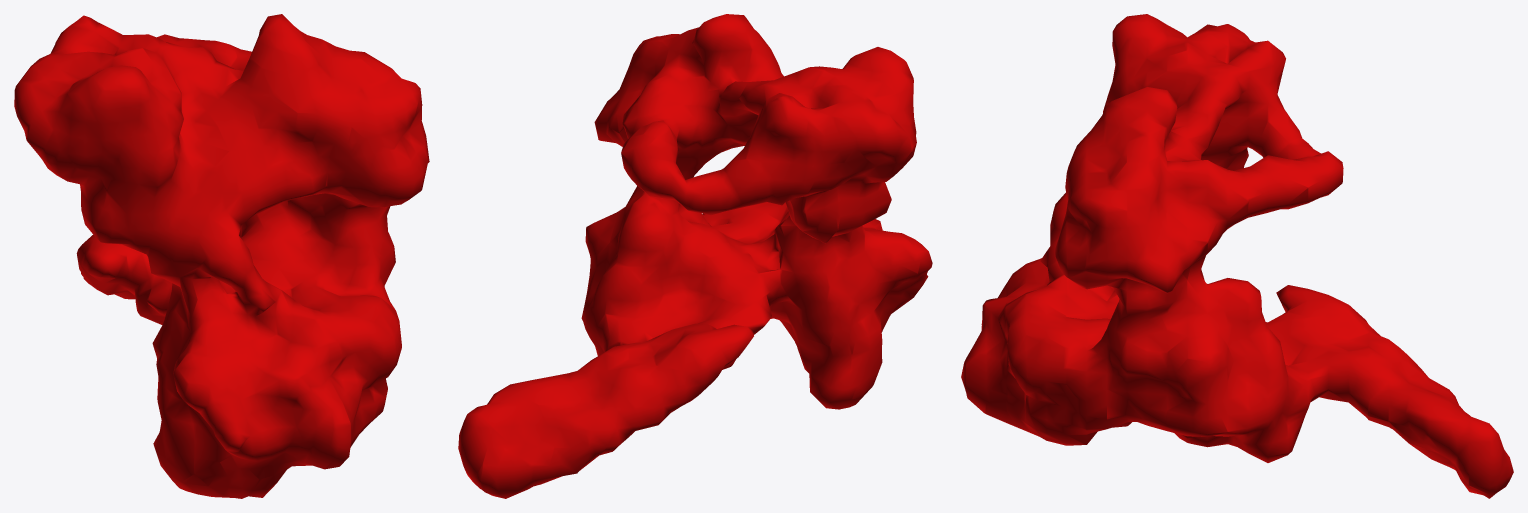
Rendered from CoarseMS_1a36_A.fbx.
3 views of the same model, side by side, from view 1: azimuth 30°, elevation 25°; view 2: azimuth 150°, elevation 25°; view 3: azimuth 270°, elevation 25° (orthographic). The views are drawn at different scales.
Parts seen in each view (by area): view 1: CoarseMS_1a36_A_Mesh; view 2: CoarseMS_1a36_A_Mesh; view 3: CoarseMS_1a36_A_Mesh.
Part boxes in pixels (x1,y1,x2,y2): CoarseMS_1a36_A_Mesh: [14, 14, 429, 498]; CoarseMS_1a36_A_Mesh: [458, 14, 932, 498]; CoarseMS_1a36_A_Mesh: [961, 14, 1513, 498].
Bounding box in the file's own units: 64.89 × 71.86 × 92.71.
